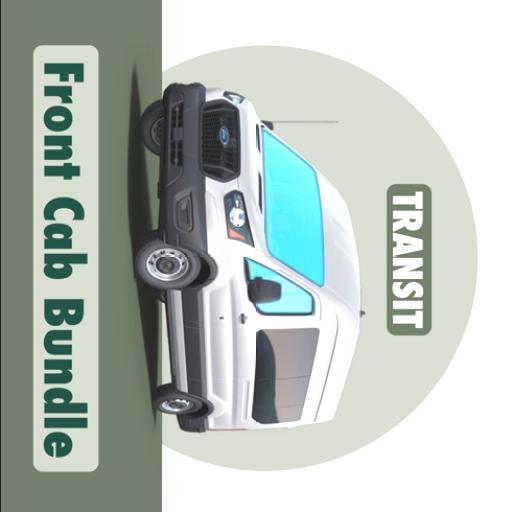van: (136, 84, 360, 432)
